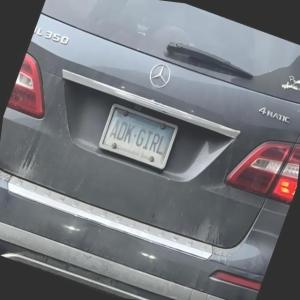Plate: (97, 102, 179, 170)
